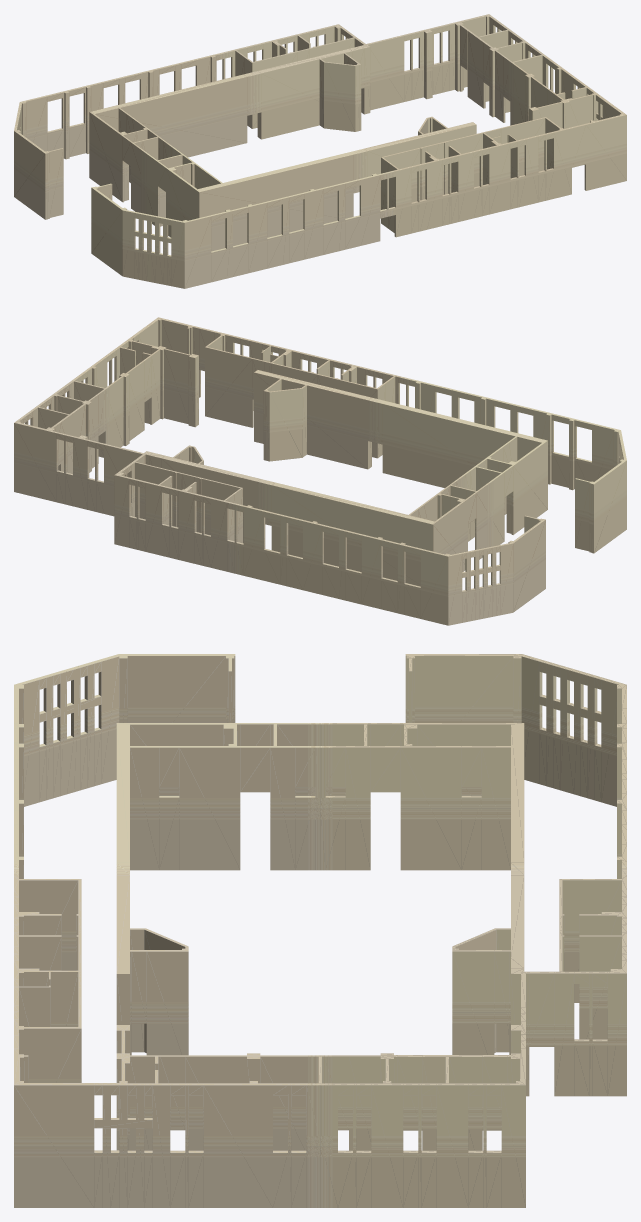
3 views of the same model, one above another, from view 1: azimuth 30°, elevation 25°; view 2: azimuth 150°, elevation 25°; view 3: azimuth 270°, elevation 25° (orthographic). The views are drawn at different scales.
Parts seen in each view (by area): view 1: Line002_网格.001_网格.001; view 2: Line002_网格.001_网格.001; view 3: Line002_网格.001_网格.001.
Part boxes in pixels (x1,y1,x2,y2): Line002_网格.001_网格.001: [14, 14, 626, 288]; Line002_网格.001_网格.001: [14, 317, 626, 625]; Line002_网格.001_网格.001: [14, 654, 626, 1207].
Size of the model in its own units: 61.1 by 8.1 by 36.7.
1 material, 1 textured.
